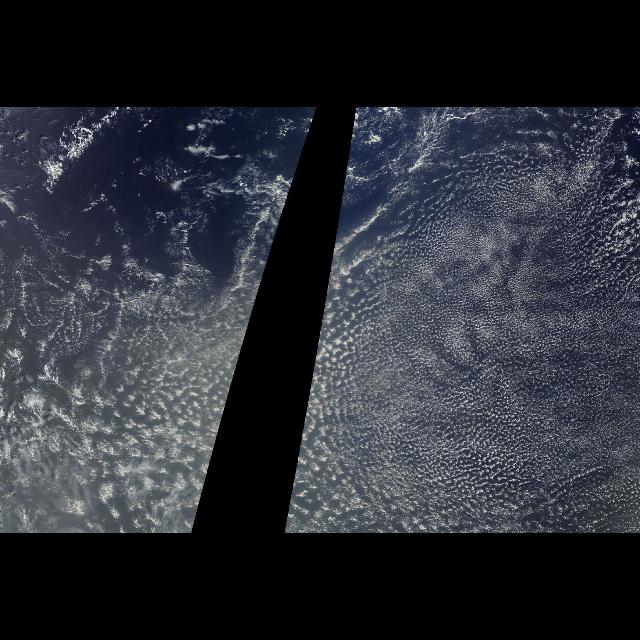Gravel: (284, 328, 634, 528), (364, 164, 630, 322), (92, 328, 248, 528)
Sugar: (297, 109, 639, 534), (7, 141, 282, 533), (296, 108, 322, 176)
